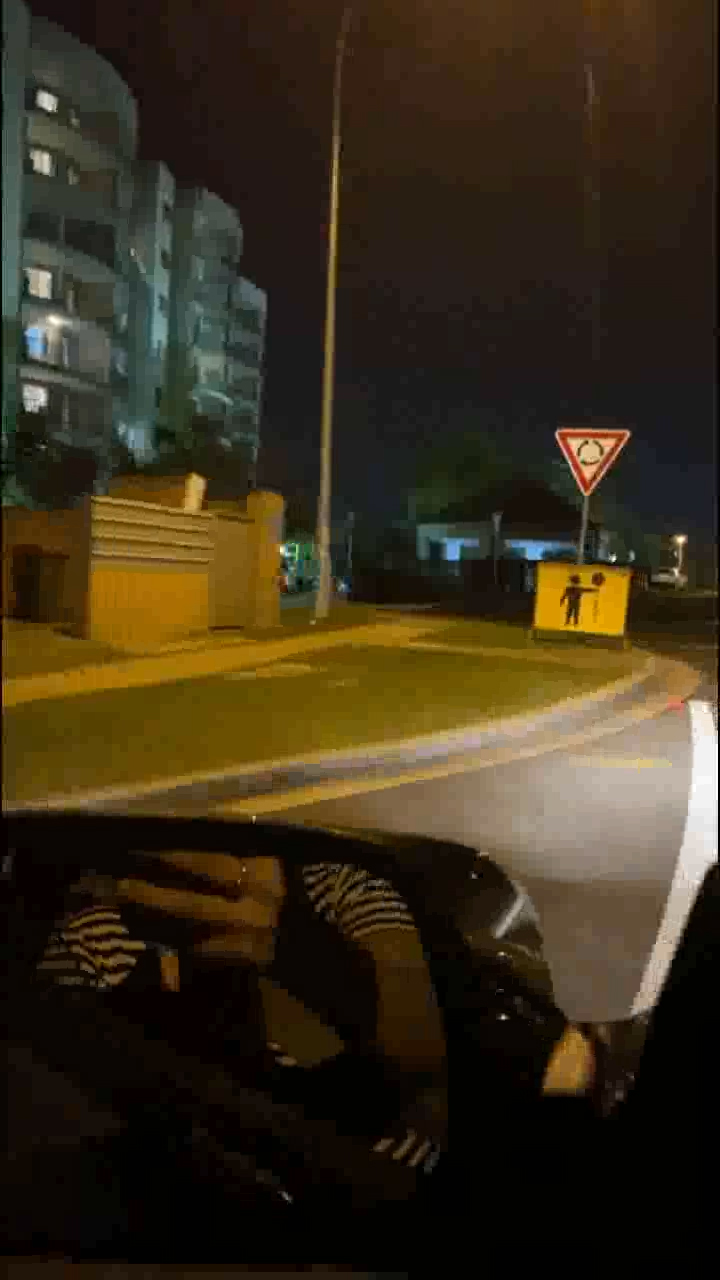prepare to stop board: (528, 557, 635, 637)
